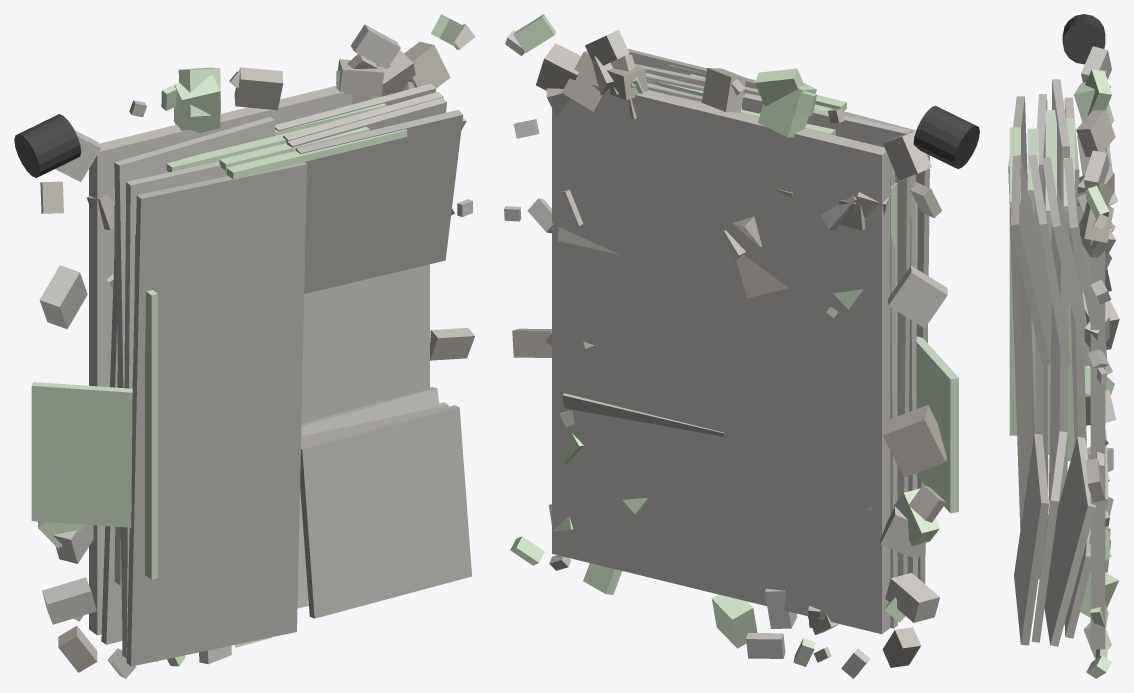
File: collapsed_pancake_3f.glb
The picture shows the model from 3 angles, left to right: view 1: azimuth 30°, elevation 25°; view 2: azimuth 150°, elevation 25°; view 3: azimuth 270°, elevation 25°; orthographic projection. The views are drawn at different scales.
Visible parts, largest first — view 1: roof, concrete, green, rubble, tank; view 2: concrete, rubble, green, tank, roof; view 3: concrete, roof, green, rubble, tank.
Part boxes in pixels (box(x1,y1,x2,y2)): roof: box(126, 110, 471, 666); concrete: box(39, 24, 475, 678); green: box(31, 14, 464, 666); rubble: box(40, 41, 474, 672); tank: box(14, 114, 81, 177); concrete: box(504, 30, 947, 678); rubble: box(512, 43, 946, 667); green: box(510, 14, 958, 666); tank: box(913, 105, 979, 168); roof: box(628, 48, 929, 583); concrete: box(1028, 46, 1118, 649); roof: box(1008, 96, 1052, 645); green: box(1009, 69, 1118, 678); rubble: box(1076, 70, 1119, 659); tank: box(1062, 14, 1105, 64).
Size of the model in its own units: 14.26 by 17.73 by 3.4.
